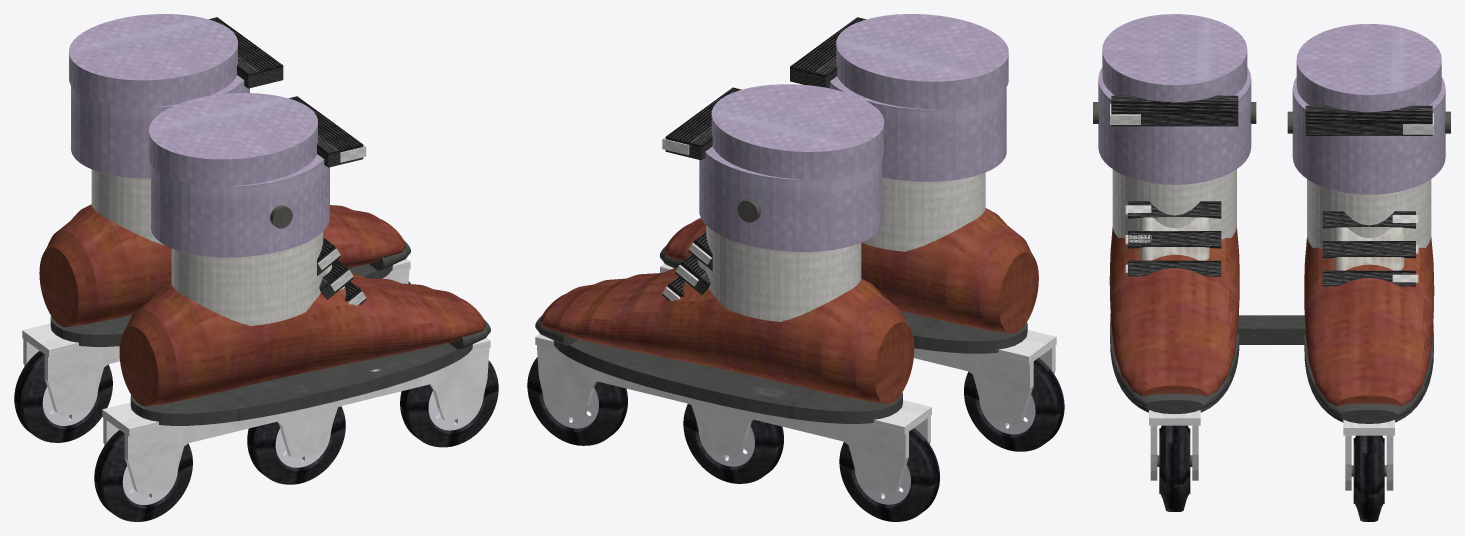
File: Sports_Roller_scates__0033.glb
The picture shows the model from 3 angles, left to right: view 1: azimuth 30°, elevation 25°; view 2: azimuth 150°, elevation 25°; view 3: azimuth 270°, elevation 25°; orthographic projection. The views are drawn at different scales.
Visible parts, largest first — view 1: right_boot::shell, left_boot::shell, right_cuff::upper_collar, left_cuff::upper_collar, right_cuff::collar, right_frame::rail_lateral, right_boot::sole, right_boot::padded_collar, left_cuff::collar, left_frame::rail_medial, right_wheel_2::tire, left_wheel_2::tire (+13 smaller); view 2: left_boot::shell, right_boot::shell, left_cuff::upper_collar, right_cuff::upper_collar, left_cuff::collar, left_frame::rail_lateral, left_boot::sole, left_boot::padded_collar, right_cuff::collar, right_boot::padded_collar, right_frame::rail_medial, right_wheel_2::tire (+12 smaller); view 3: left_boot::shell, right_boot::shell, left_cuff::upper_collar, right_cuff::upper_collar, right_cuff::collar, left_cuff::collar, left_boot::padded_collar, right_boot::padded_collar, right_cuff::cuff_strap, left_cuff::cuff_strap, right_wheel_0::tire, left_wheel_0::tire (+17 smaller).
Part boxes in pixels (<box>): right_boot::shell: <box>119,273,485,406</box>; left_boot::shell: <box>39,204,405,327</box>; right_cuff::upper_collar: <box>149,93,317,186</box>; left_cuff::upper_collar: <box>69,14,237,107</box>; right_cuff::collar: <box>151,154,329,257</box>; right_frame::rail_lateral: <box>124,349,489,495</box>; right_boot::sole: <box>130,343,472,425</box>; right_boot::padded_collar: <box>171,231,323,325</box>; left_cuff::collar: <box>71,75,249,178</box>; left_frame::rail_medial: <box>44,270,409,416</box>; right_wheel_2::tire: <box>94,430,192,521</box>; left_wheel_2::tire: <box>14,351,112,442</box>; left_boot::shell: <box>540,267,914,403</box>; right_boot::shell: <box>665,208,1038,333</box>; left_cuff::upper_collar: <box>711,84,884,179</box>; right_cuff::upper_collar: <box>836,14,1008,108</box>; left_cuff::collar: <box>699,146,882,251</box>; left_frame::rail_lateral: <box>537,345,908,495</box>; left_boot::sole: <box>554,339,902,423</box>; left_boot::padded_collar: <box>706,225,861,321</box>; right_cuff::collar: <box>828,76,1006,181</box>; right_boot::padded_collar: <box>861,172,985,251</box>; right_frame::rail_medial: <box>914,348,1033,425</box>; right_wheel_2::tire: <box>964,358,1064,451</box>; left_boot::shell: <box>1304,236,1434,406</box>; right_boot::shell: <box>1109,226,1239,396</box>; left_cuff::upper_collar: <box>1296,24,1441,111</box>; right_cuff::upper_collar: <box>1102,14,1247,102</box>; right_cuff::collar: <box>1098,67,1251,184</box>; left_cuff::collar: <box>1292,77,1445,194</box>; left_boot::padded_collar: <box>1307,179,1431,249</box>; right_boot::padded_collar: <box>1112,169,1236,239</box>; right_cuff::cuff_strap: <box>1111,95,1238,126</box>; left_cuff::cuff_strap: <box>1305,105,1432,135</box>; right_wheel_0::tire: <box>1159,425,1190,511</box>; left_wheel_0::tire: <box>1353,435,1384,521</box>.
Bounding box in the file's own units: 0.3588 × 0.3034 × 0.276.
Materials: 12 (11 with a texture image).
